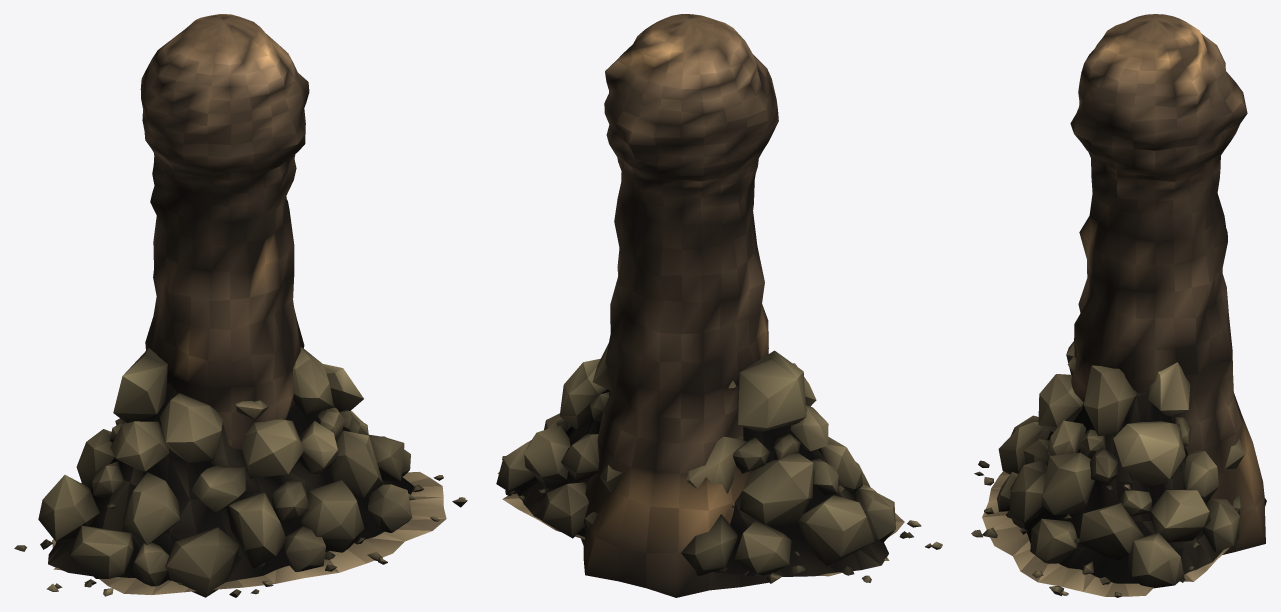
File: TarSpire15.glb
The picture shows the model from 3 angles, left to right: view 1: azimuth 30°, elevation 25°; view 2: azimuth 150°, elevation 25°; view 3: azimuth 270°, elevation 25°; orthographic projection. The views are drawn at different scales.
Visible parts, largest first — view 1: TarSpire15; view 2: TarSpire15; view 3: TarSpire15.
Boxes of the visible parts, x1,y1,x2,y2 form: TarSpire15: (14, 14, 467, 597); TarSpire15: (496, 14, 942, 597); TarSpire15: (971, 14, 1266, 597).
Bounding box in the file's own units: 6.24 × 7.4 × 3.95.
